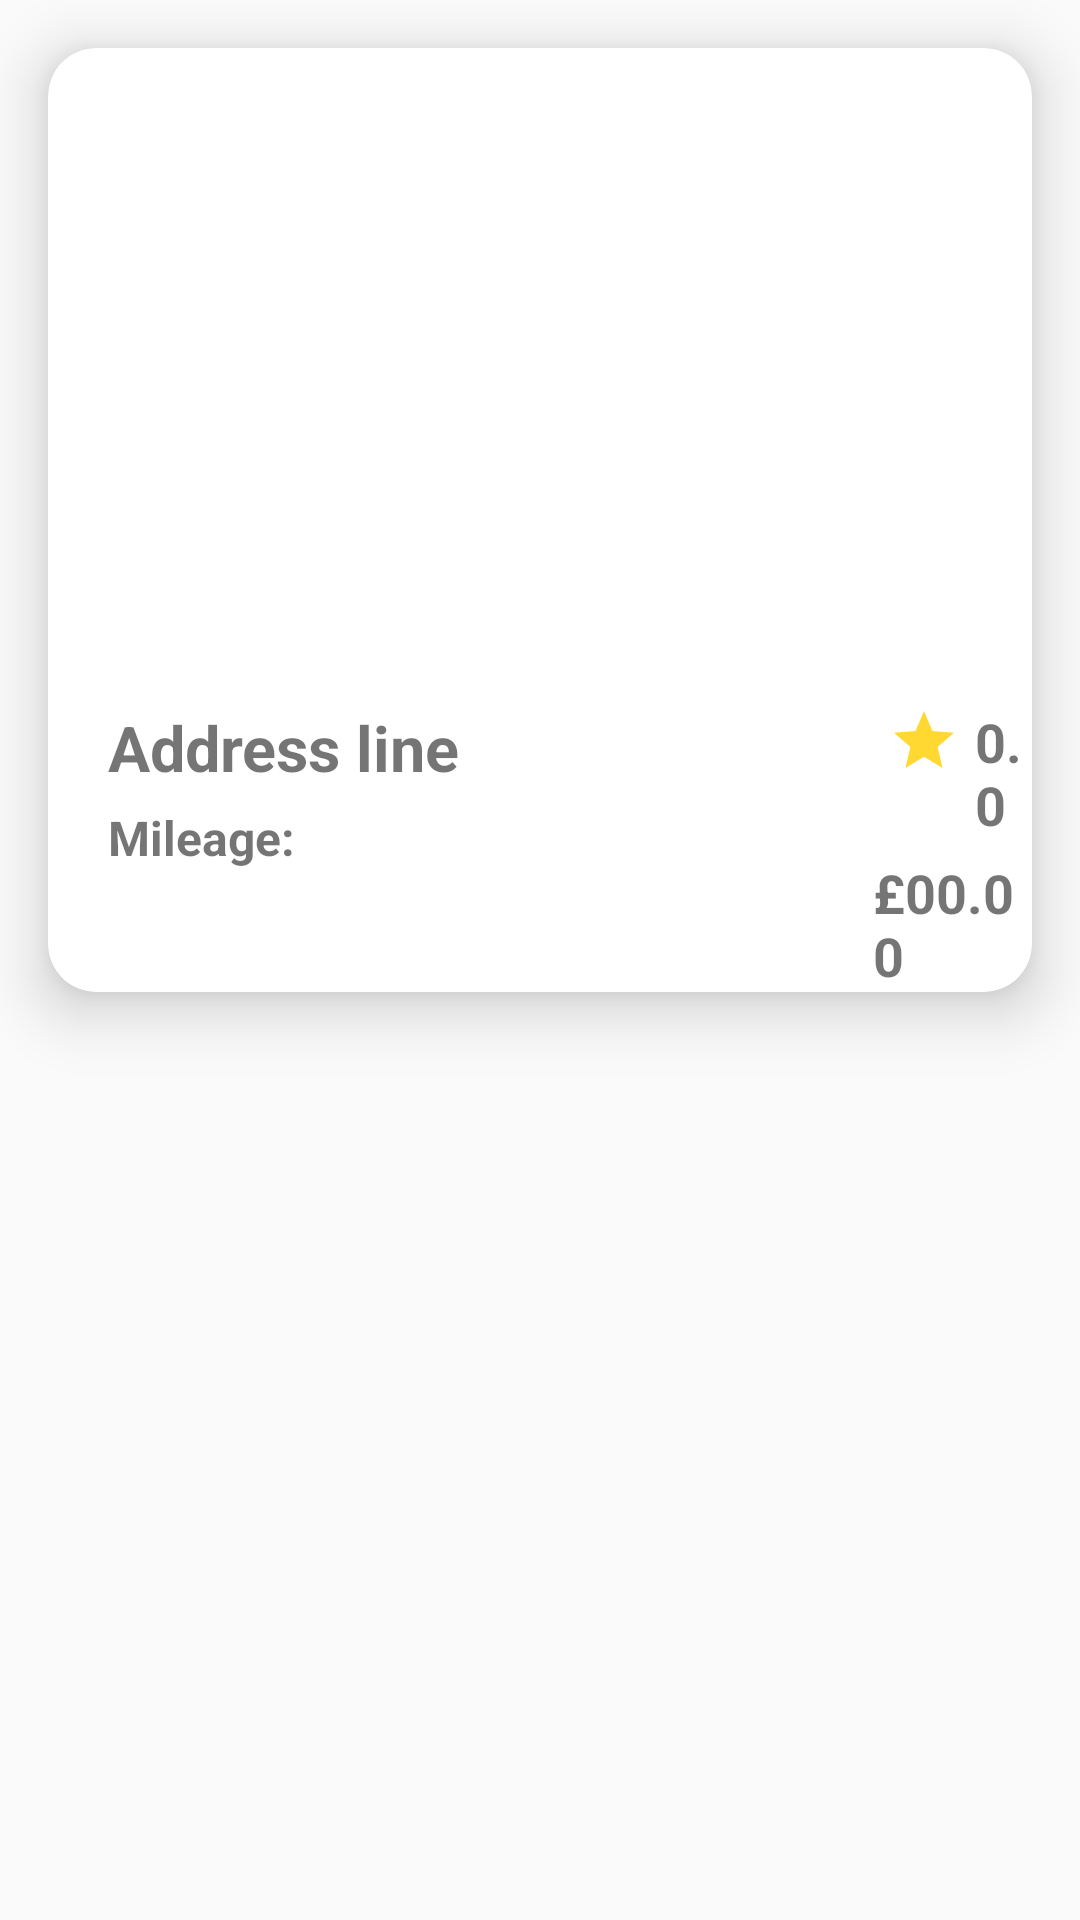

Point at icon controls on the screen. Image size 1080*1920, points as point (x, y).
star: point (924, 739)
